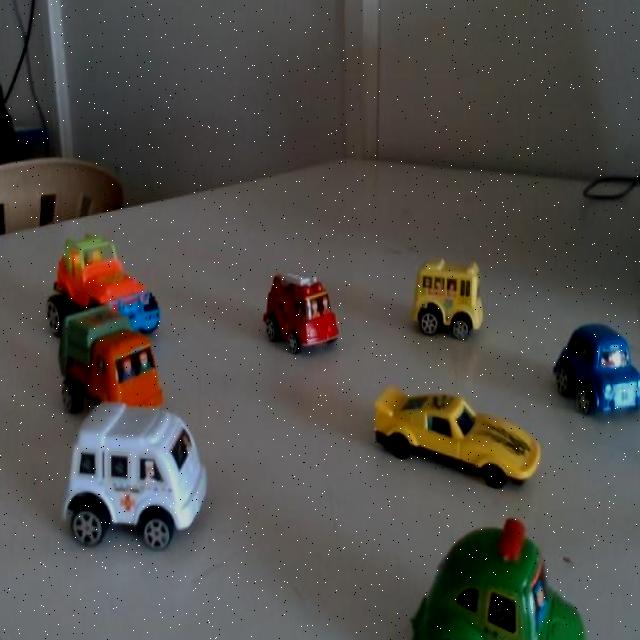car: (73, 378, 235, 579), (391, 375, 526, 499), (446, 537, 597, 640), (80, 227, 170, 343), (259, 258, 341, 375), (405, 255, 496, 358), (84, 297, 156, 425), (572, 323, 640, 422)
